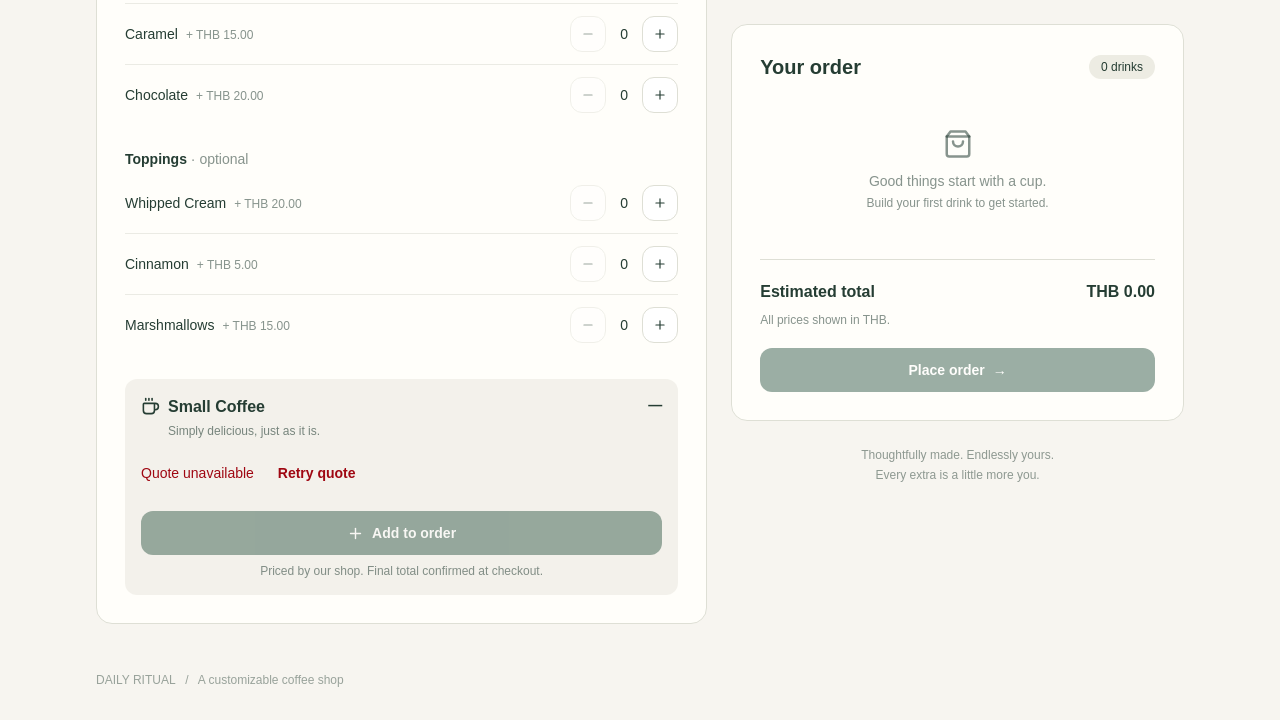
Test: Coffee ordering › shows quote failure and allows retry
(page scrolled)
Expected: the message shows "Quote unavailable", [141,465,254,481]
Expected: the button "Add to order" is disabled, [141,511,662,555]
Click the button "Retry quote" at x=317, y=473, box [258,451,376,495]
(page scrolled)
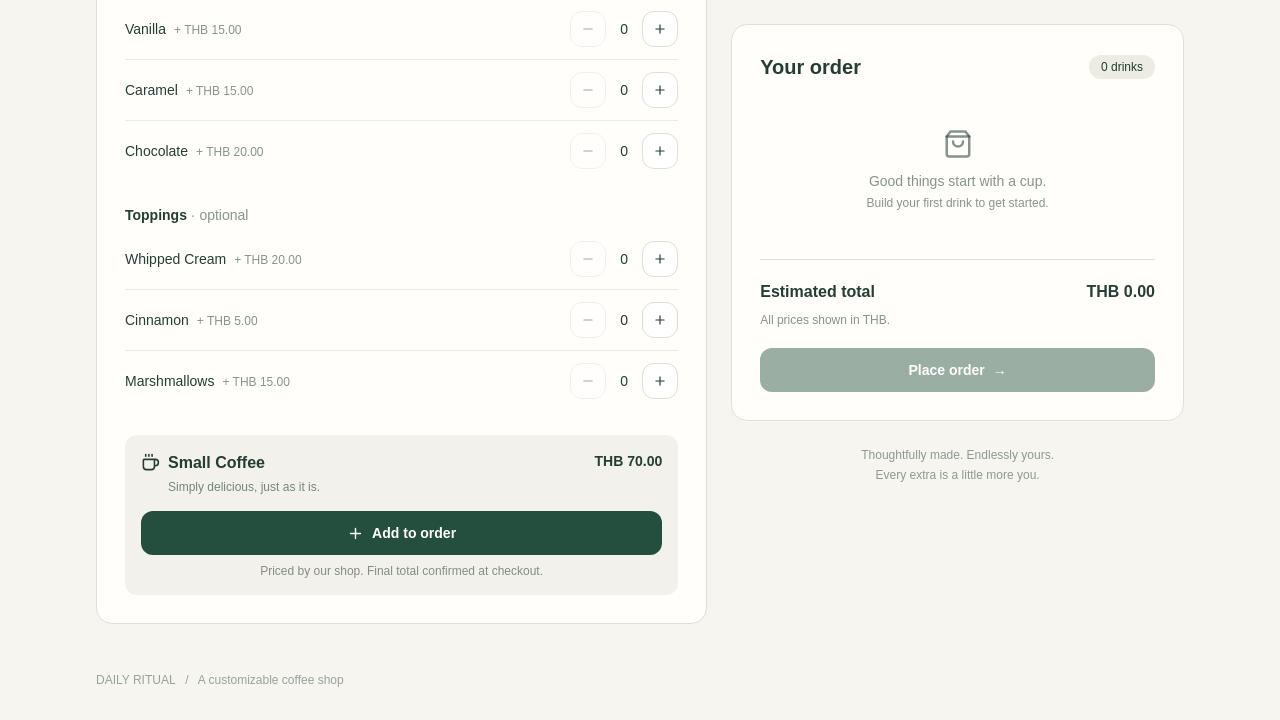
Result: the button "Add to order" is enabled at [141,511,662,555]
